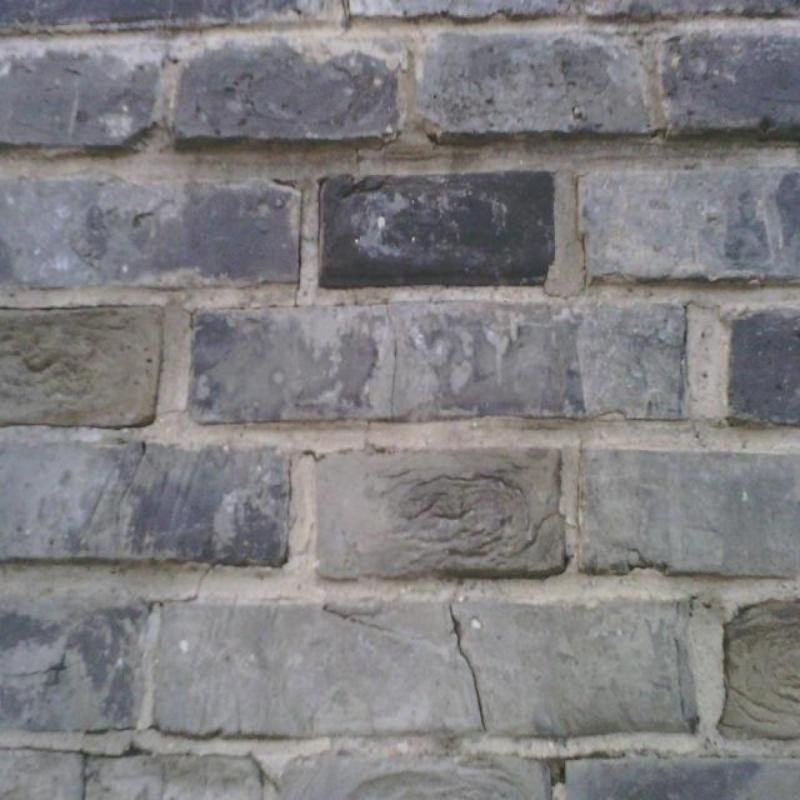crack: (145, 545, 290, 619), (0, 745, 150, 799), (449, 607, 487, 730), (290, 422, 370, 472), (541, 239, 588, 298), (549, 752, 624, 786), (116, 440, 146, 520), (672, 638, 696, 726), (385, 302, 399, 421), (684, 301, 719, 346), (292, 226, 304, 309), (45, 655, 69, 688), (561, 552, 575, 569)
